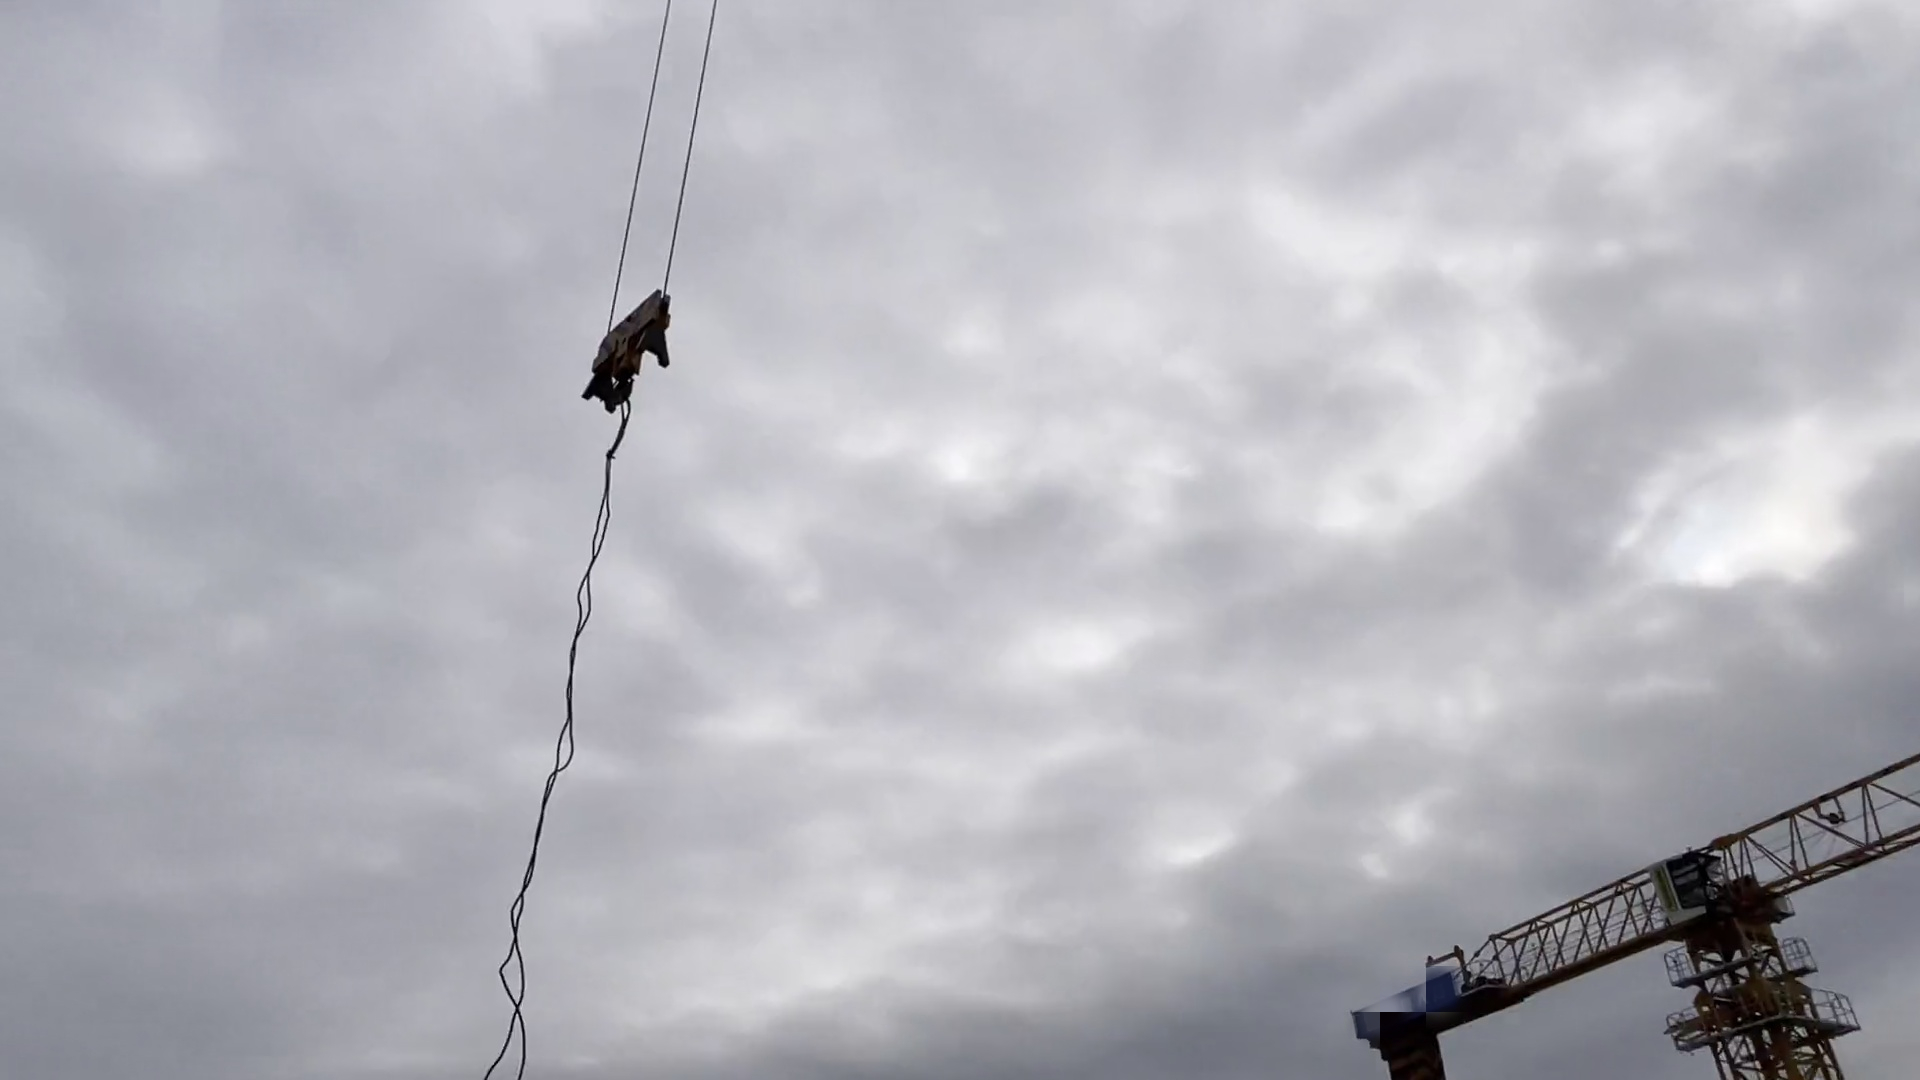hook: (582, 291, 674, 411)
